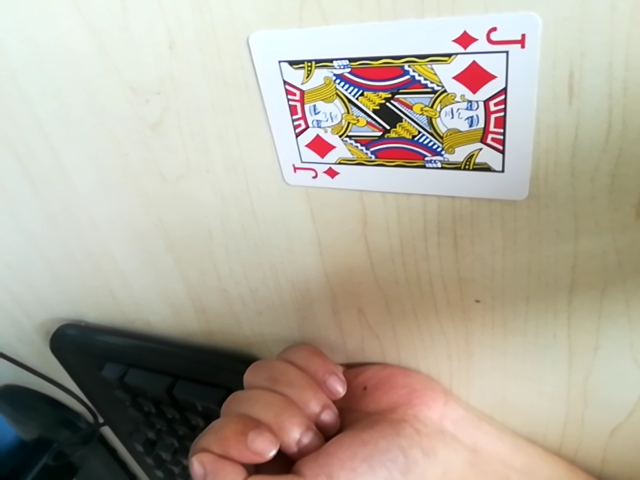fk j: (455, 24, 529, 52), (291, 161, 344, 186)
